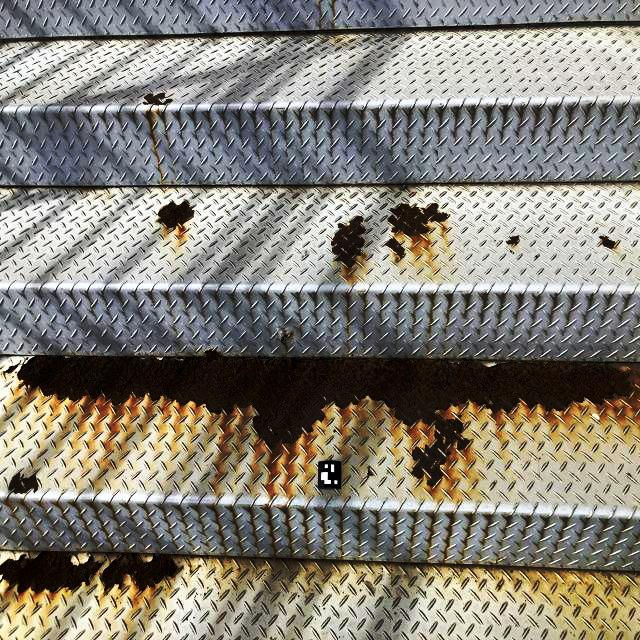Corrosion: (14, 351, 634, 488), (0, 552, 104, 594), (100, 554, 177, 592), (388, 203, 450, 236), (331, 215, 366, 268), (158, 199, 195, 228), (8, 473, 39, 494), (143, 93, 173, 106), (385, 238, 404, 257), (599, 236, 615, 249), (280, 332, 293, 348), (3, 362, 21, 373), (506, 236, 519, 248), (367, 468, 375, 477)
